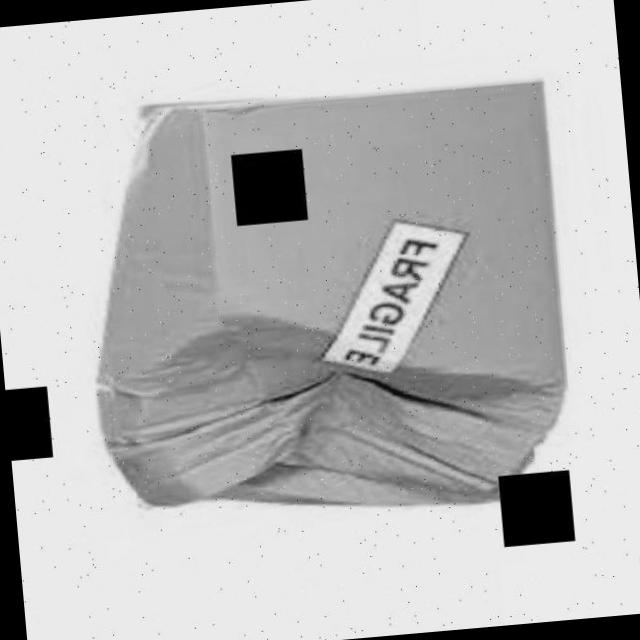box: (70, 67, 585, 546)
